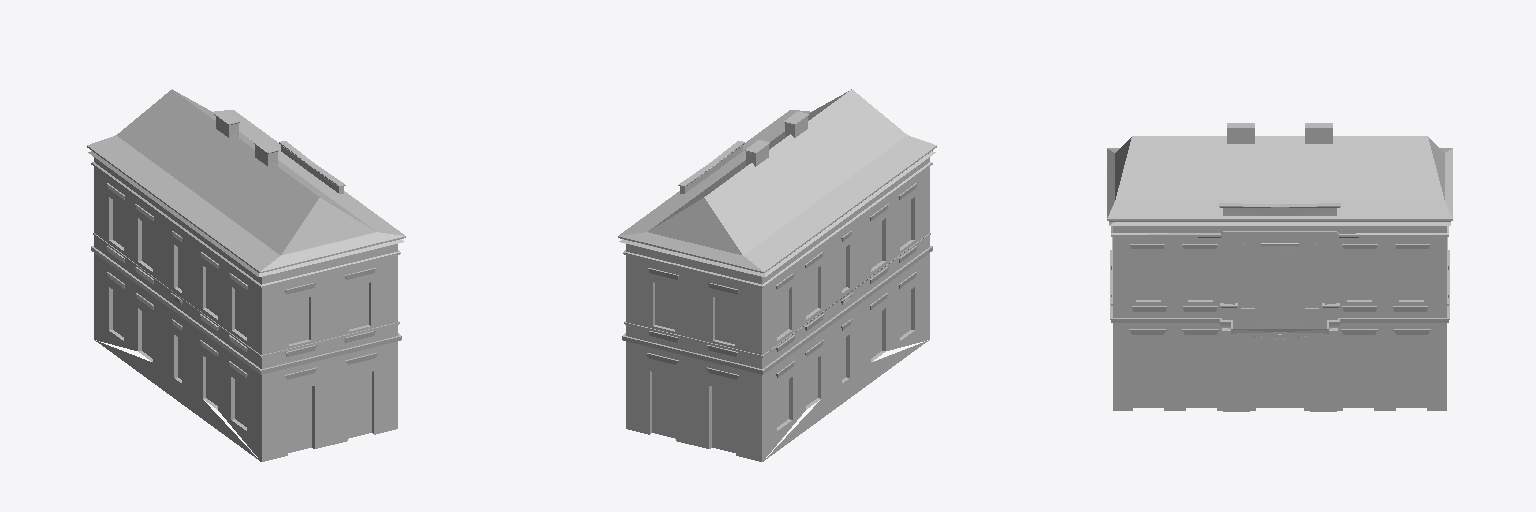
The model's file is house25.obj.
3 views of the same model, side by side, from view 1: azimuth 30°, elevation 25°; view 2: azimuth 150°, elevation 25°; view 3: azimuth 270°, elevation 25° (orthographic).
Parts seen in each view (by area): view 1: City_building_010.001; view 2: City_building_010.001; view 3: City_building_010.001.
Boxes of the visible parts, x1=… form: City_building_010.001: x1=87, y1=89, x2=405, y2=461; City_building_010.001: x1=618, y1=89, x2=936, y2=461; City_building_010.001: x1=1107, y1=123, x2=1452, y2=411.
Bounding box in the file's own units: 1.4 × 2.04 × 2.54.